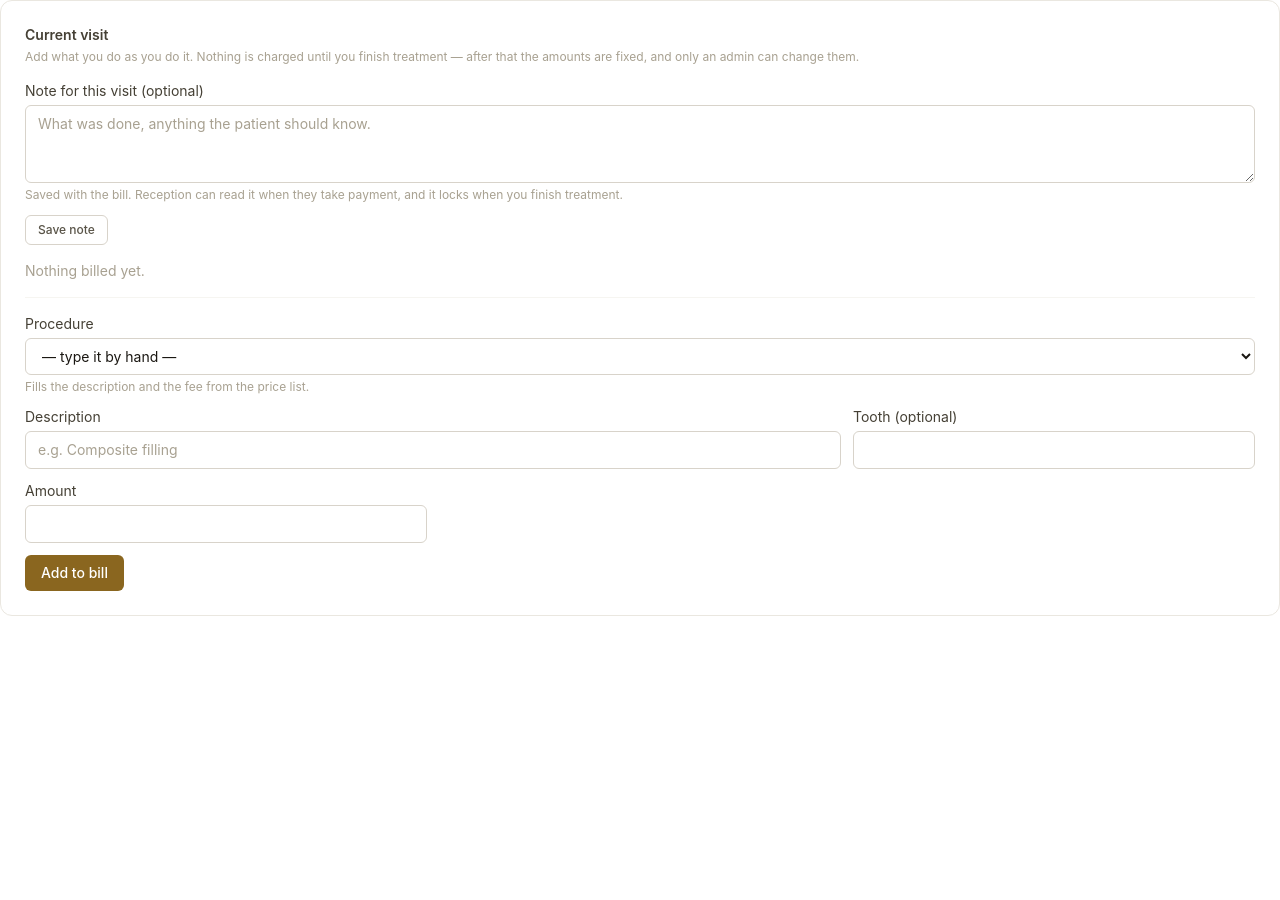
Test: ChairsideBilling › keeps the typed note on screen when the write fails
The image size is (1280, 900).
Type "Distal caries on 16, deep. Discussed options with patient." into the text box labelled "Note for this visit (optional)" at (640, 144), box [25,105,1255,183]
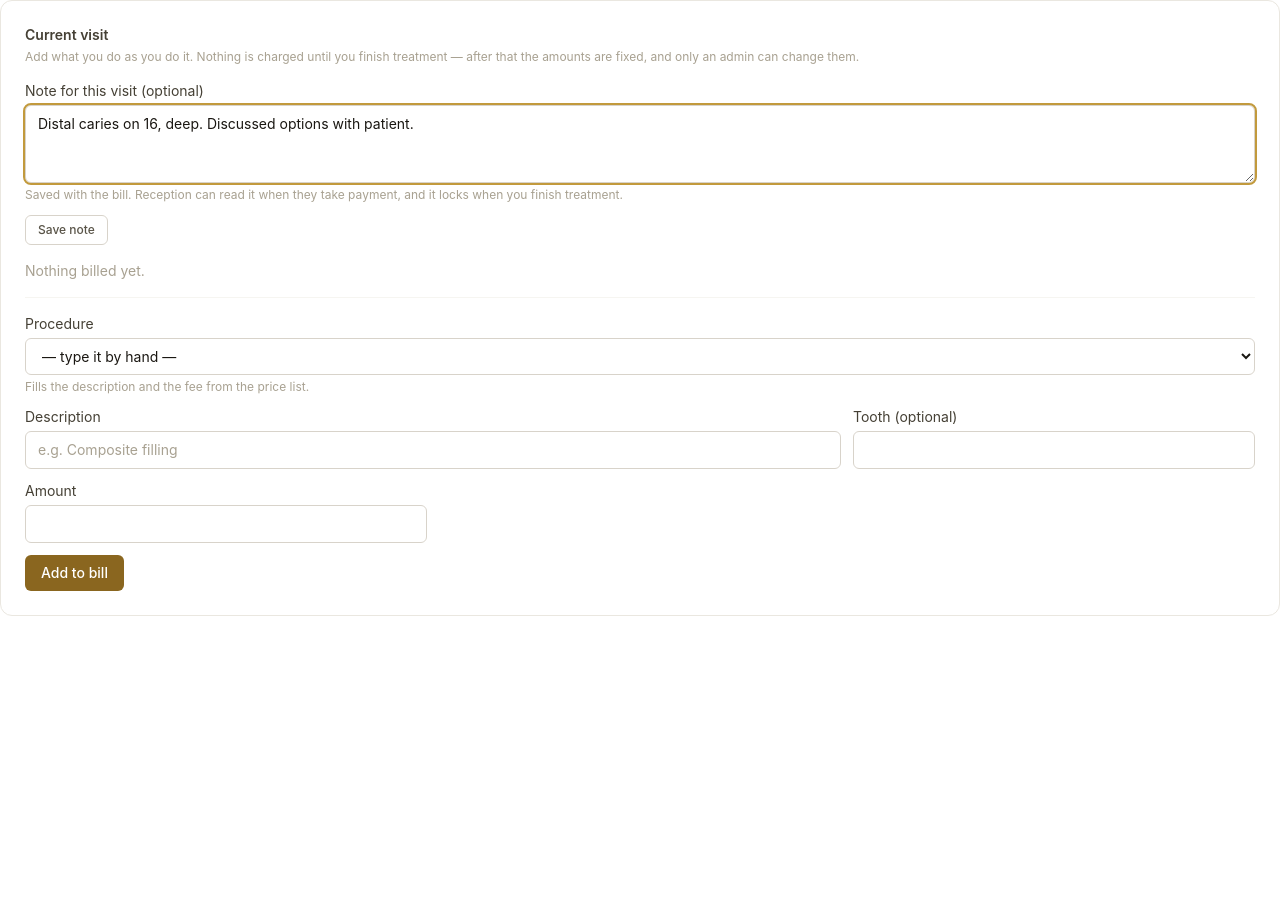
Click the button "Save note" at (66, 230), box [25,215,108,245]
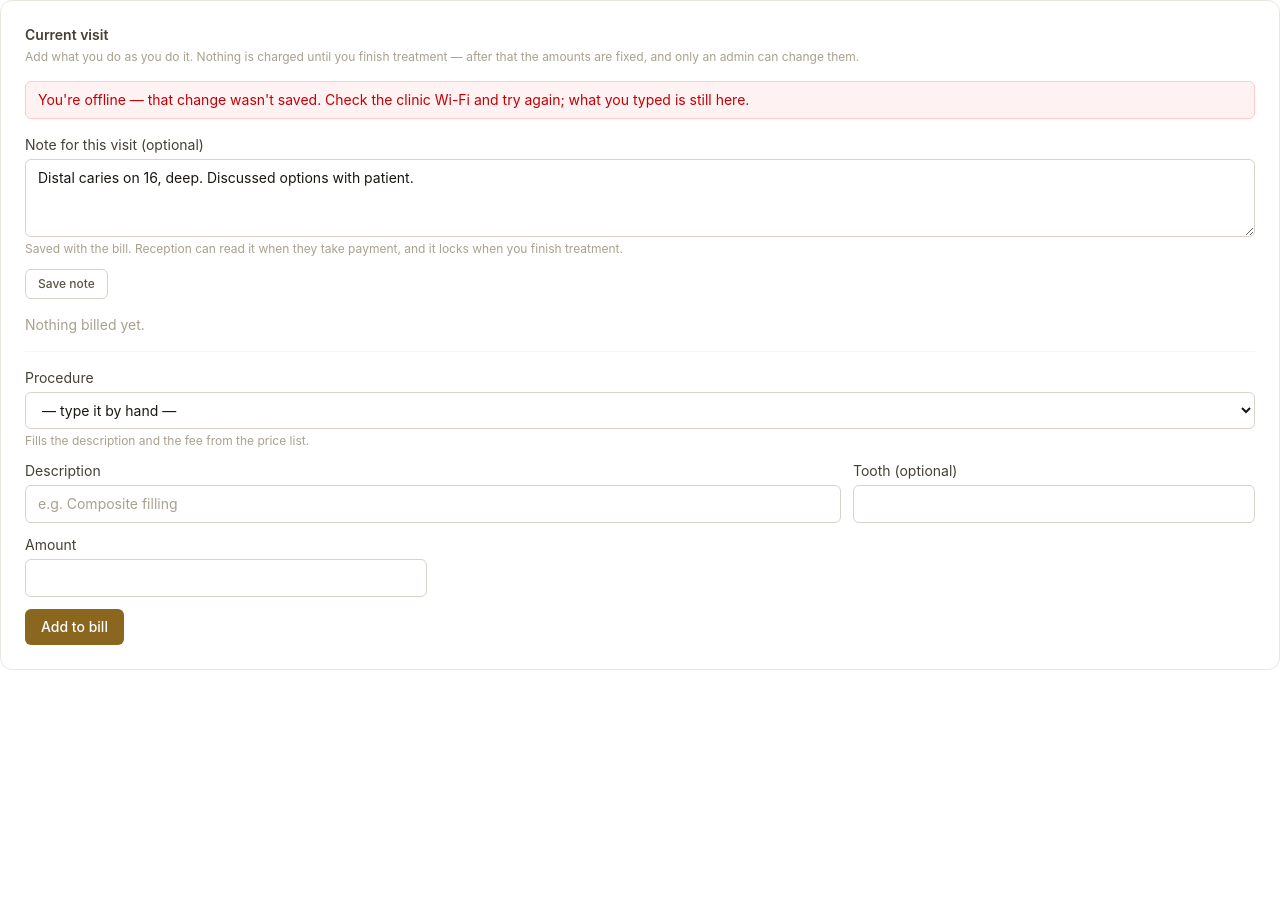
Expected: the message shows "You're offline", [38,91,749,108]
